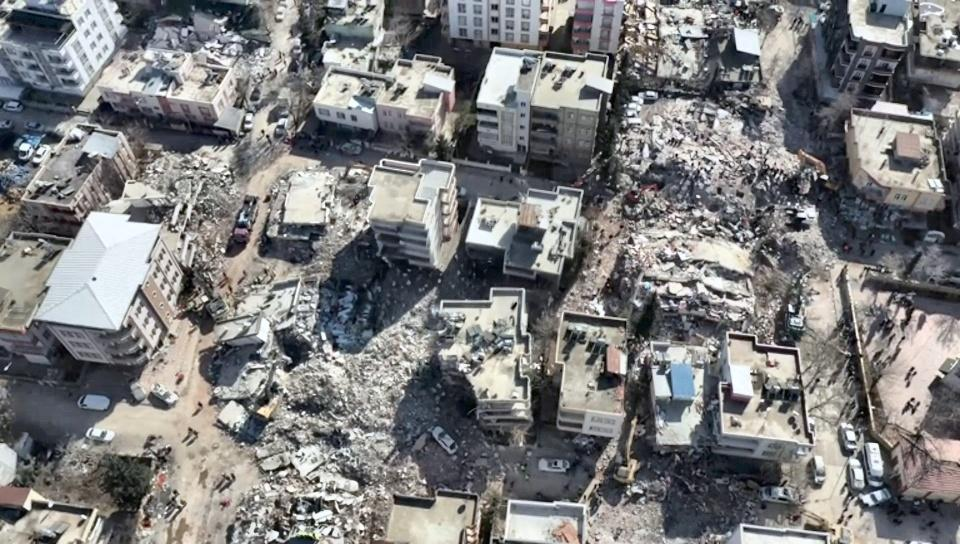kapali: (232, 433, 537, 500), (563, 460, 822, 531), (177, 244, 273, 433), (761, 64, 833, 293)
